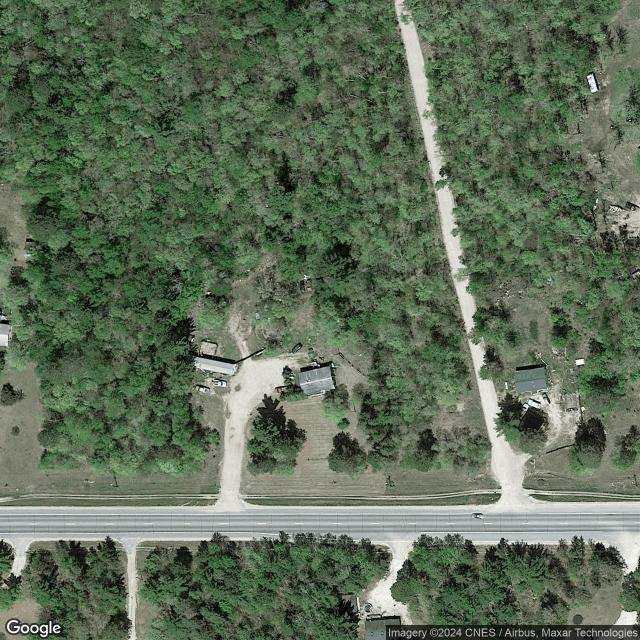Propane: (503, 380, 509, 390)
